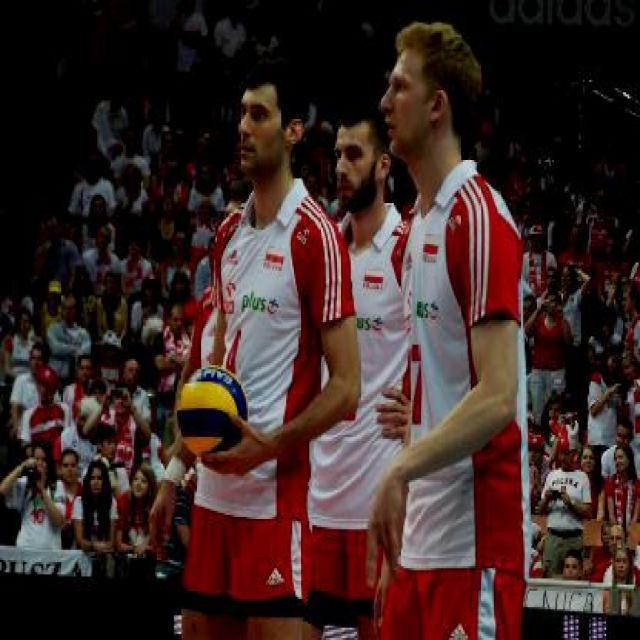volleyball: (176, 366, 248, 458)
